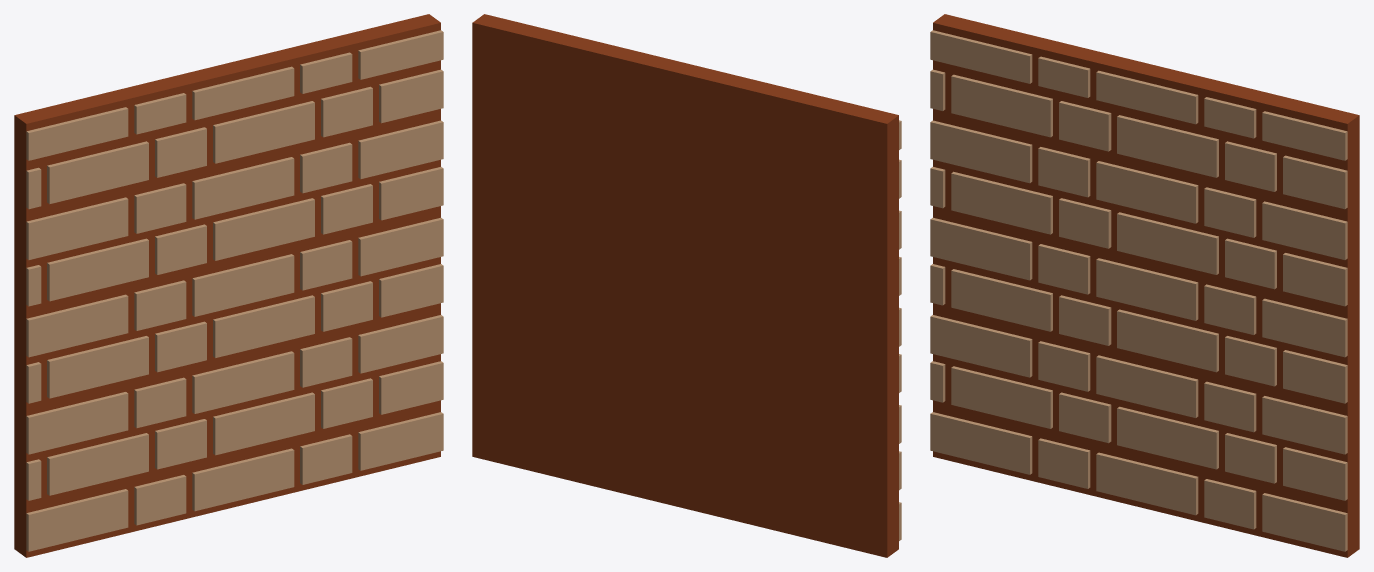
The model's file is BrickV1.fbx.
3 renders of one model, left to right at view 1: azimuth 30°, elevation 25°; view 2: azimuth 150°, elevation 25°; view 3: azimuth 330°, elevation 25°, orthographic.
Visible parts, largest first — view 1: BrickV1; view 2: BrickV1; view 3: BrickV1.
Boxes of the visible parts, x1,y1,x2,y2 form: BrickV1: (14, 14, 443, 557); BrickV1: (472, 14, 901, 557); BrickV1: (930, 14, 1359, 557).
Bounding box in the file's own units: 200 × 200 × 12.
